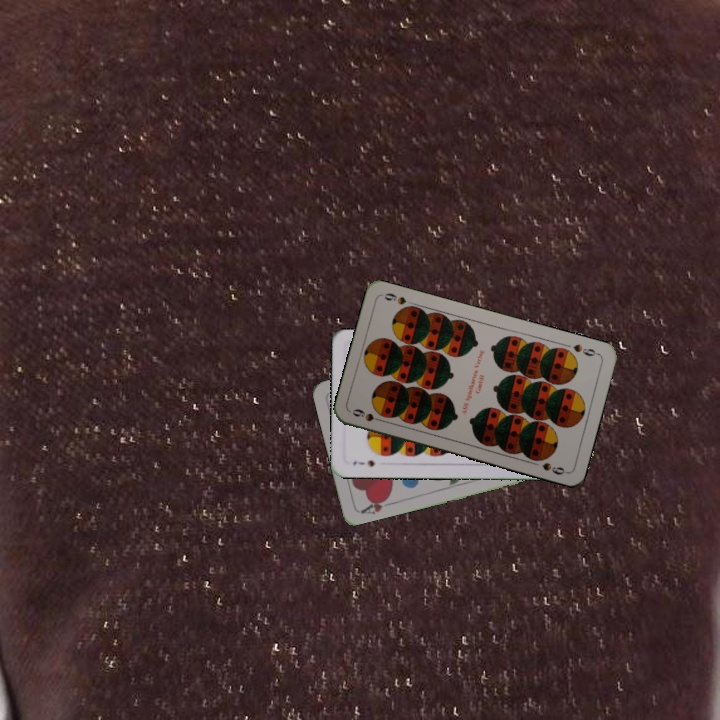HA: (356, 492, 396, 517)
S7: (349, 456, 377, 469)
S9: (348, 405, 388, 425), (569, 340, 602, 359)
